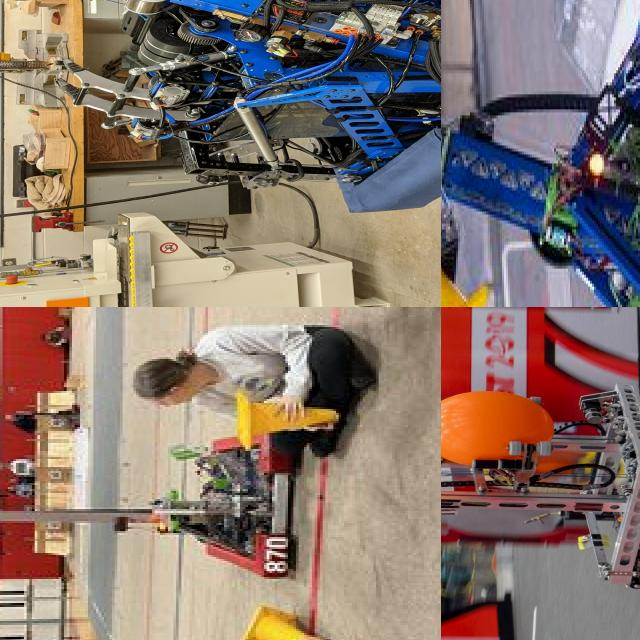FRC-Robots: (441, 0, 640, 307), (441, 351, 640, 640), (16, 0, 441, 125), (0, 428, 291, 603)
